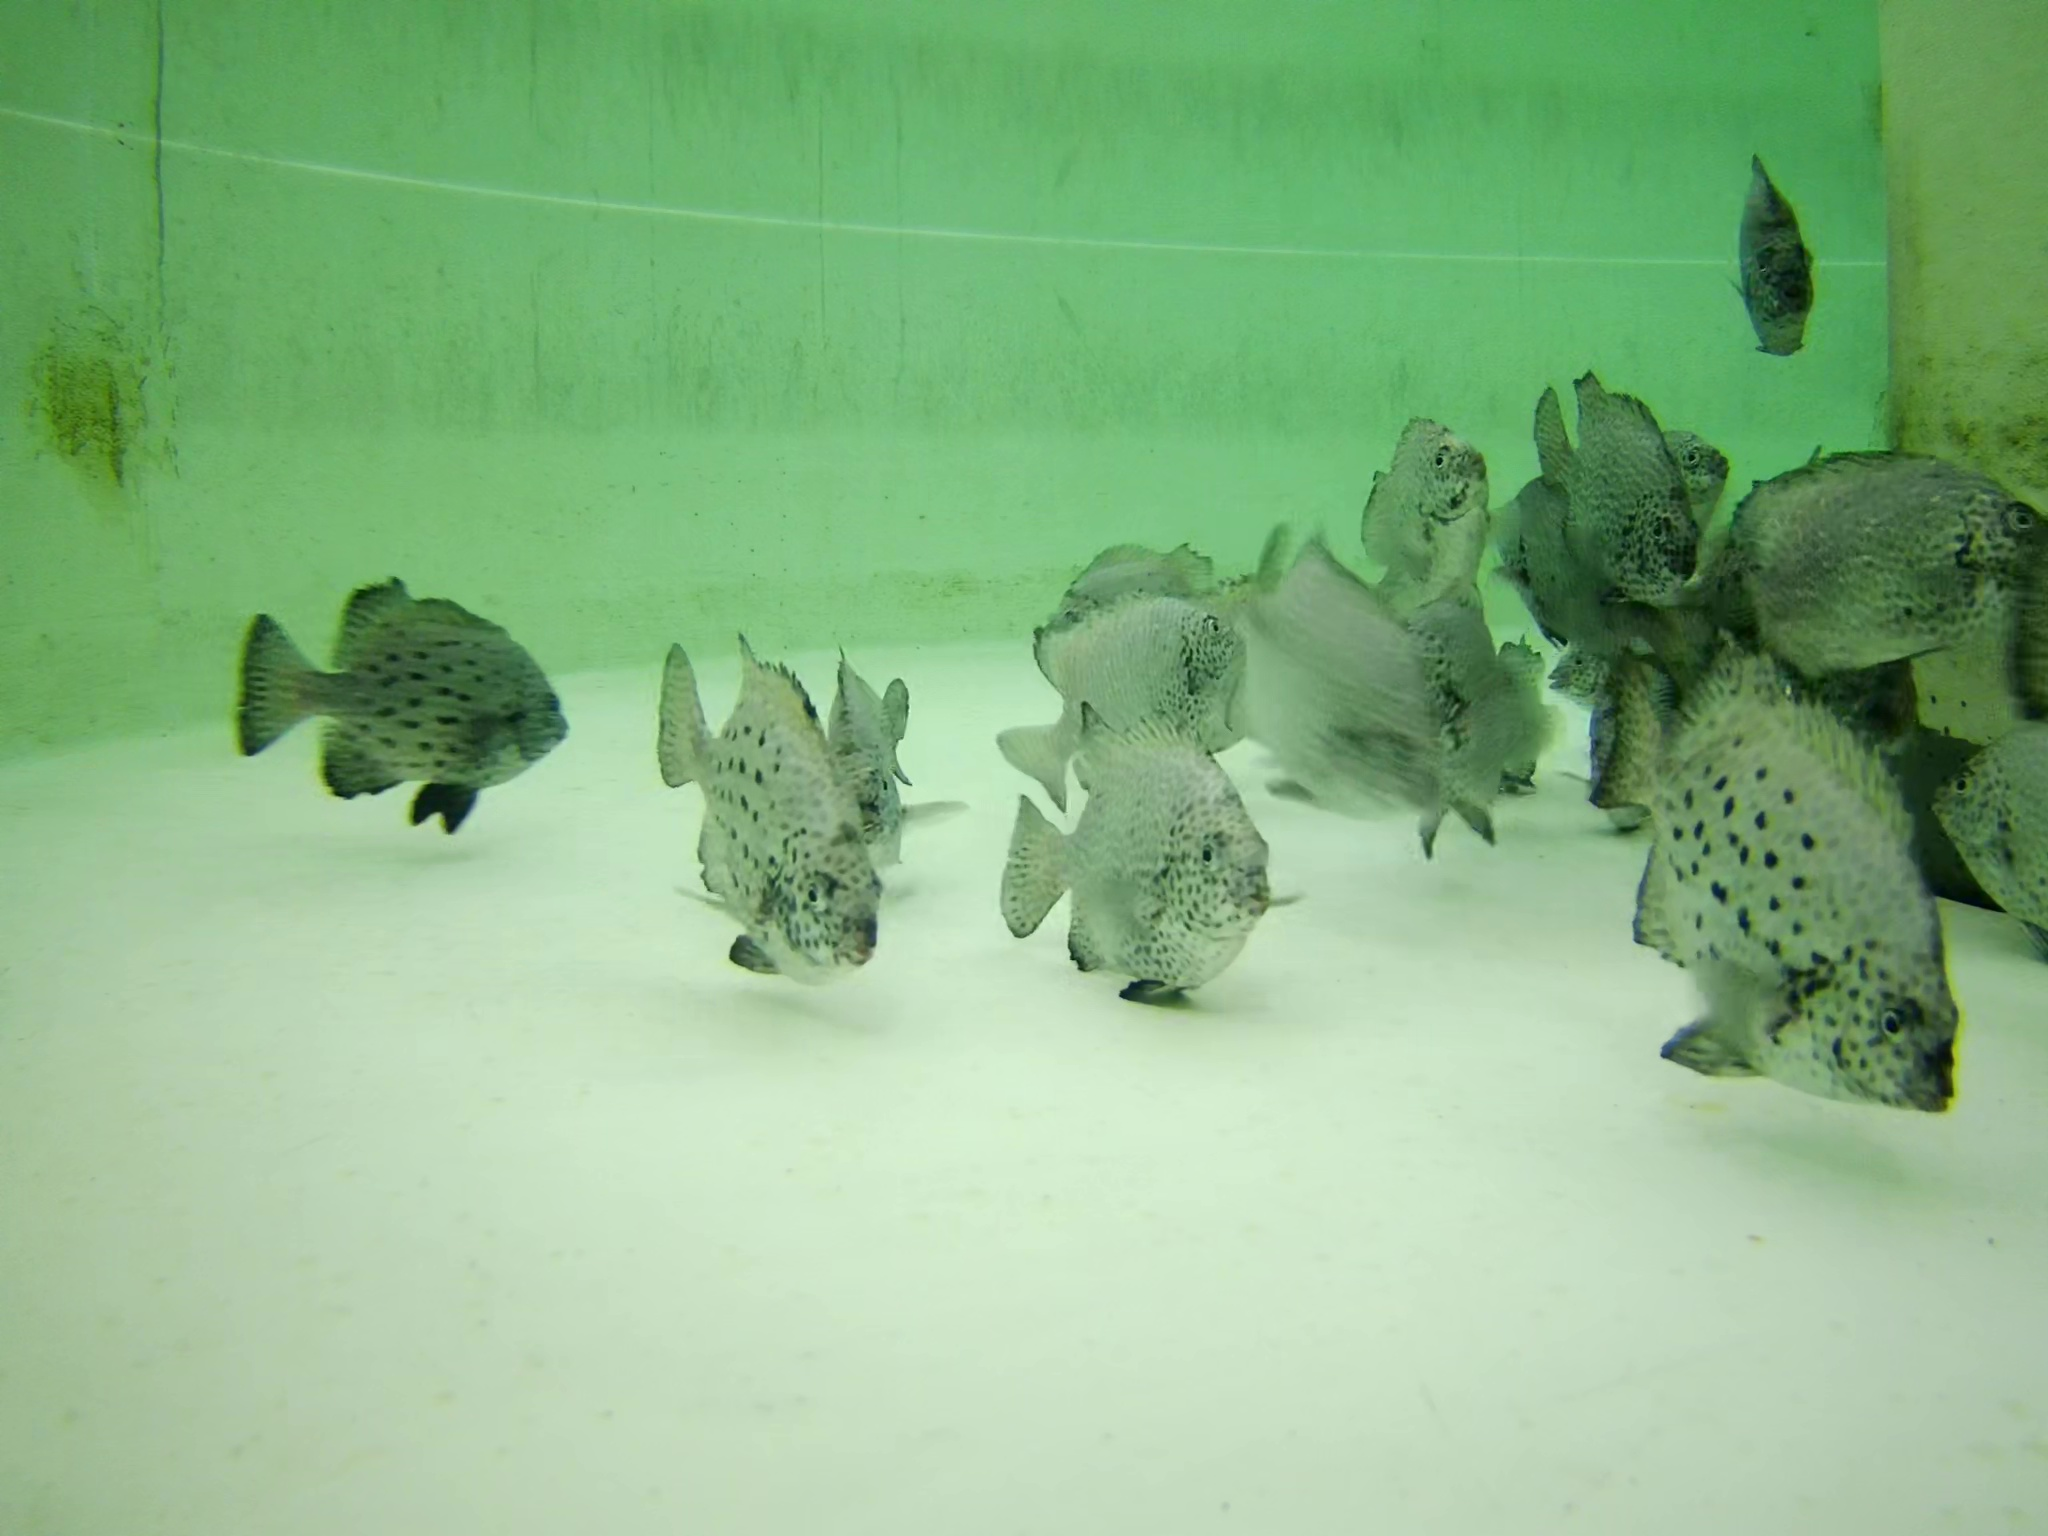fish: (1616, 652, 1961, 1099), (1000, 691, 1284, 1033), (648, 632, 884, 983), (239, 589, 566, 820), (1716, 453, 2048, 666), (1222, 544, 1435, 866), (1014, 584, 1264, 816), (1524, 342, 1705, 597), (1401, 597, 1555, 823), (813, 637, 930, 887), (1366, 395, 1505, 602), (1938, 712, 2048, 941), (1039, 544, 1230, 653), (1730, 161, 1822, 365), (1666, 421, 1729, 561), (1551, 637, 1666, 708)
